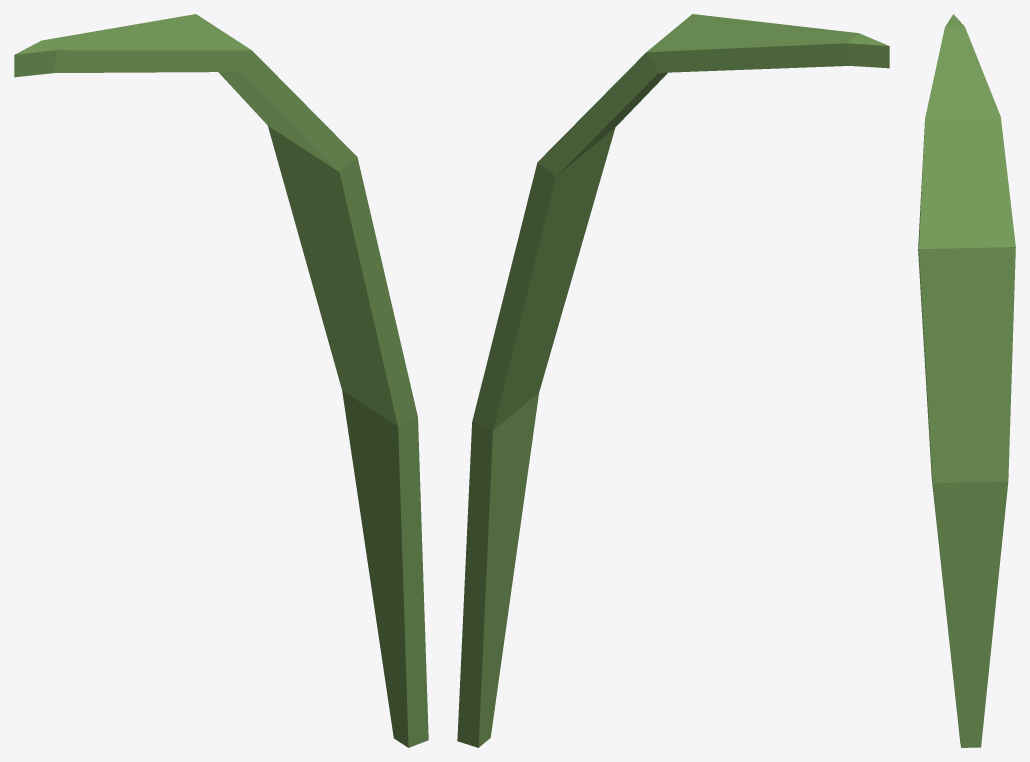
The model's file is Wheat_1.gltf.
3 views of the same model, side by side, from view 1: azimuth 30°, elevation 25°; view 2: azimuth 150°, elevation 25°; view 3: azimuth 270°, elevation 25° (orthographic). The views are drawn at different scales.
Visible parts, largest first — view 1: Wheat_1; view 2: Wheat_1; view 3: Wheat_1.
Boxes of the visible parts, x1,y1,x2,y2 form: Wheat_1: (14, 14, 428, 747); Wheat_1: (457, 14, 889, 747); Wheat_1: (918, 14, 1015, 747).
Size of the model in its own units: 0.1214 by 0.2194 by 0.0333.
